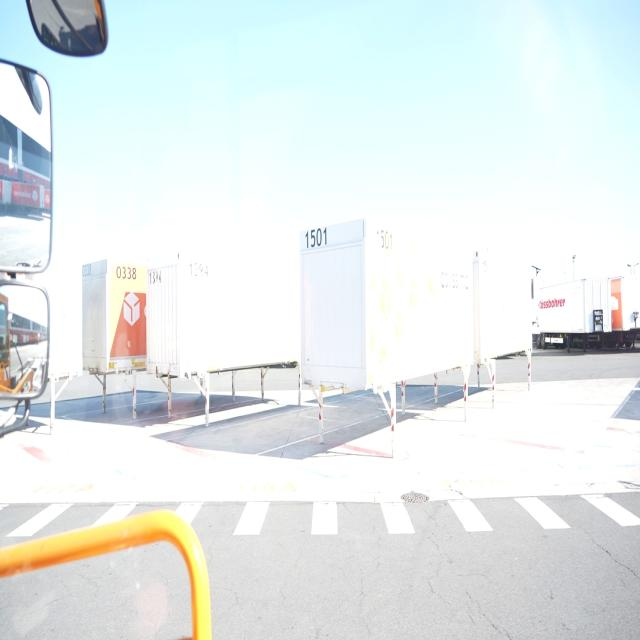Code: (304, 223, 332, 253), (114, 261, 140, 282)
